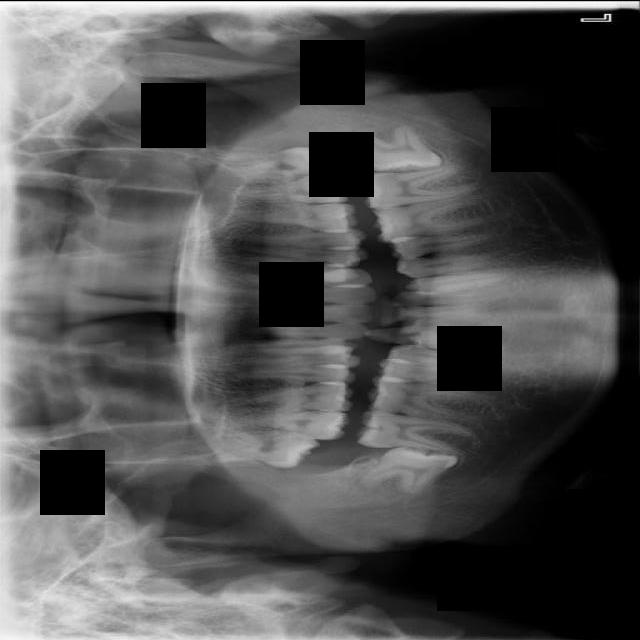3M ESPE Implant: (200, 423, 321, 469)
73: (576, 20, 596, 30)
BioHorizons Implant: (232, 173, 349, 203)
BioLife Implant: (218, 144, 337, 179)
Biomet 3i Implant: (352, 122, 444, 176)
Blue Sky Bio Implant: (357, 159, 479, 211)
Caries: (239, 408, 350, 440)
Implant: (355, 407, 476, 459)
Keystone Dental Implant: (358, 439, 460, 499)
